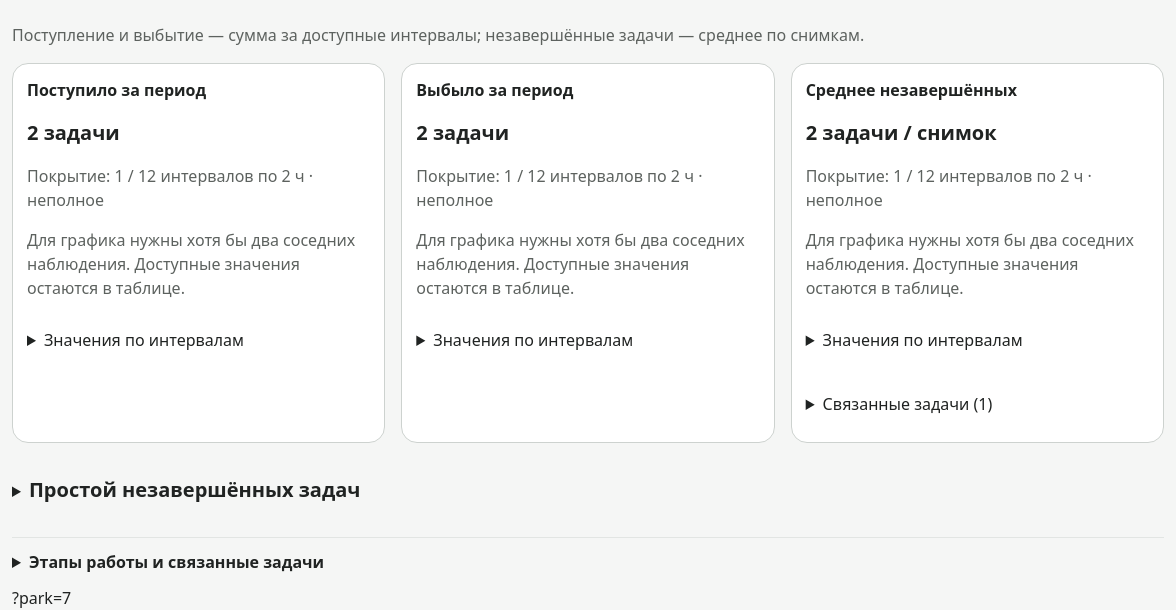
Test case: removes cached analytics when a drilldown page loses authorization
(page scrolled)
Click the heading "Этапы работы и связанные задачи" at (176, 562), box x1=29 y1=550 x2=324 y2=572
(page scrolled)
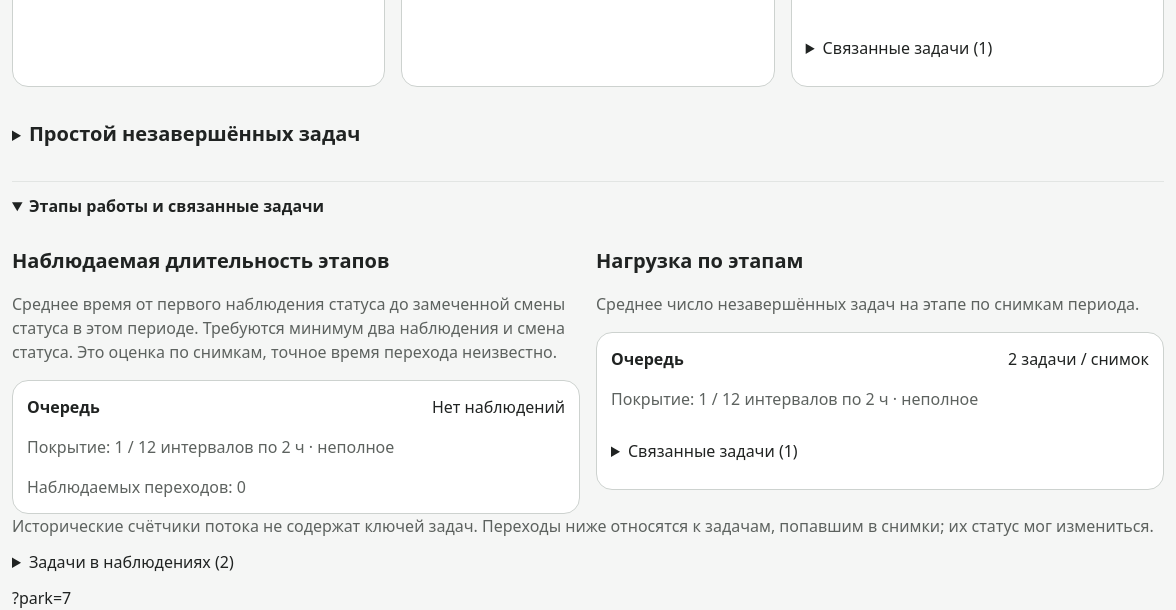
Click the heading "Задачи в наблюдениях (2)" at (131, 562), box x1=29 y1=550 x2=234 y2=572
(page scrolled)
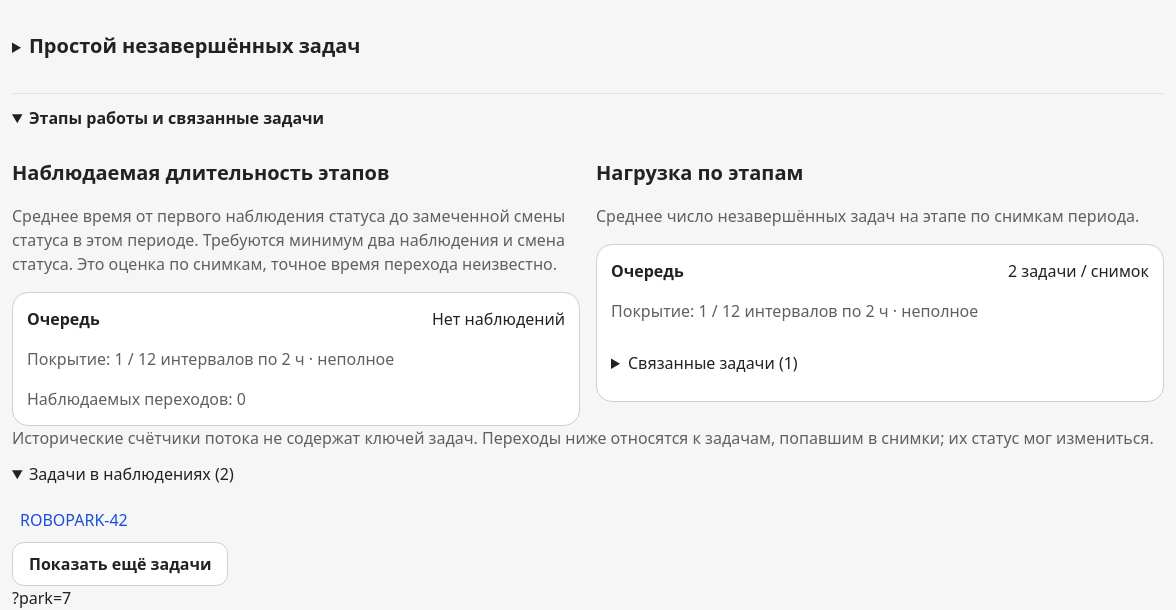
Click the button "Показать ещё задачи" at (120, 564), box x1=12 y1=542 x2=228 y2=586
(page scrolled)
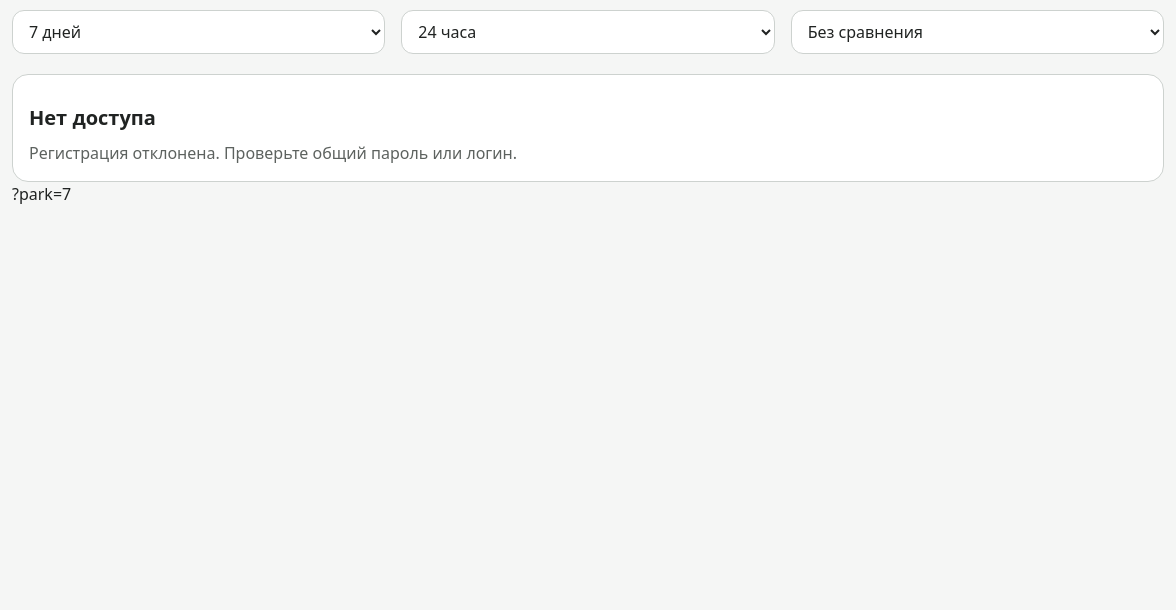
Now the heading "Нет доступа" is shown, box x1=29 y1=104 x2=156 y2=131
